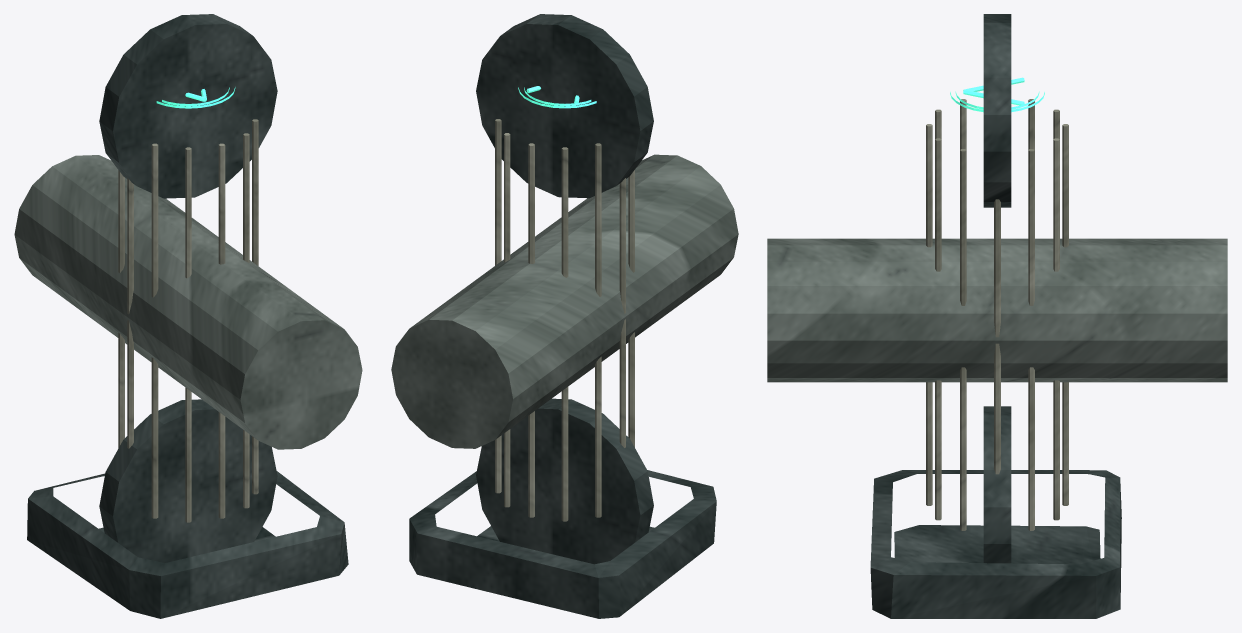
File: 0300_fluted_column_25.glb
The picture shows the model from 3 angles, left to right: view 1: azimuth 30°, elevation 25°; view 2: azimuth 150°, elevation 25°; view 3: azimuth 270°, elevation 25°; orthographic projection. The views are drawn at different scales.
Parts seen in each view (by area): view 1: stone_dark, stone, stone_light, glow; view 2: stone_dark, stone, stone_light, glow; view 3: stone, stone_dark, stone_light, glow.
Part boxes in pixels (x1,y1,x2,y2): stone_dark: (27, 14, 348, 618); stone: (14, 155, 362, 449); stone_light: (118, 119, 258, 522); glow: (156, 87, 235, 108); stone_dark: (409, 14, 716, 618); stone: (391, 154, 738, 448); stone_light: (495, 119, 634, 521); glow: (518, 86, 596, 108); stone: (767, 238, 1227, 382); stone_dark: (870, 14, 1121, 618); stone_light: (926, 99, 1068, 530); glow: (950, 77, 1044, 112).
Bounding box in the file's own units: 1.28 × 3.16 × 2.32.
Materials: 4 (4 with a texture image).
